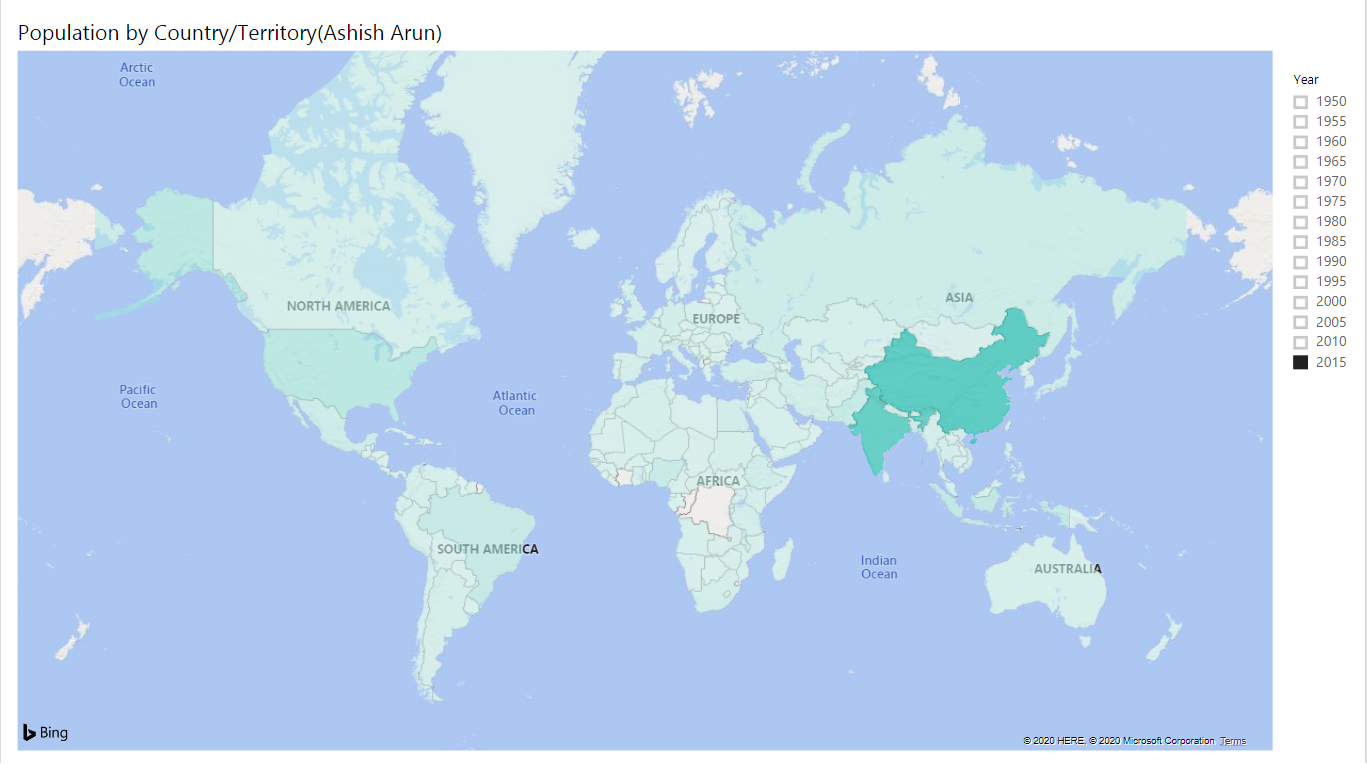

What the dashboard file says about the page in this screenshot:
{"tool":"powerbi","page":{"name":"World Population Map","canvas":[1280,720],"ordinal":3},"visuals":[{"type":"filledMap","fields":{"Size":["Population.Population"],"Category":["Country.Country/Territory"]},"box":[10.6,19.9,1187.4,693],"z":1},{"type":"slicer","fields":{"Values":["Year.Year"]},"box":[1199.1,64,76.2,300.2],"z":2}]}

Visuals, with their boxes in screenshot pixels (x1, y1, x2, y2), scaled from the page's 1280x720 canvas onto the 1367x764 screenshot:
filledMap - Population.Population x Country.Country/Territory: detection(11, 21, 1279, 756)
slicer - Year.Year: detection(1281, 68, 1362, 386)
